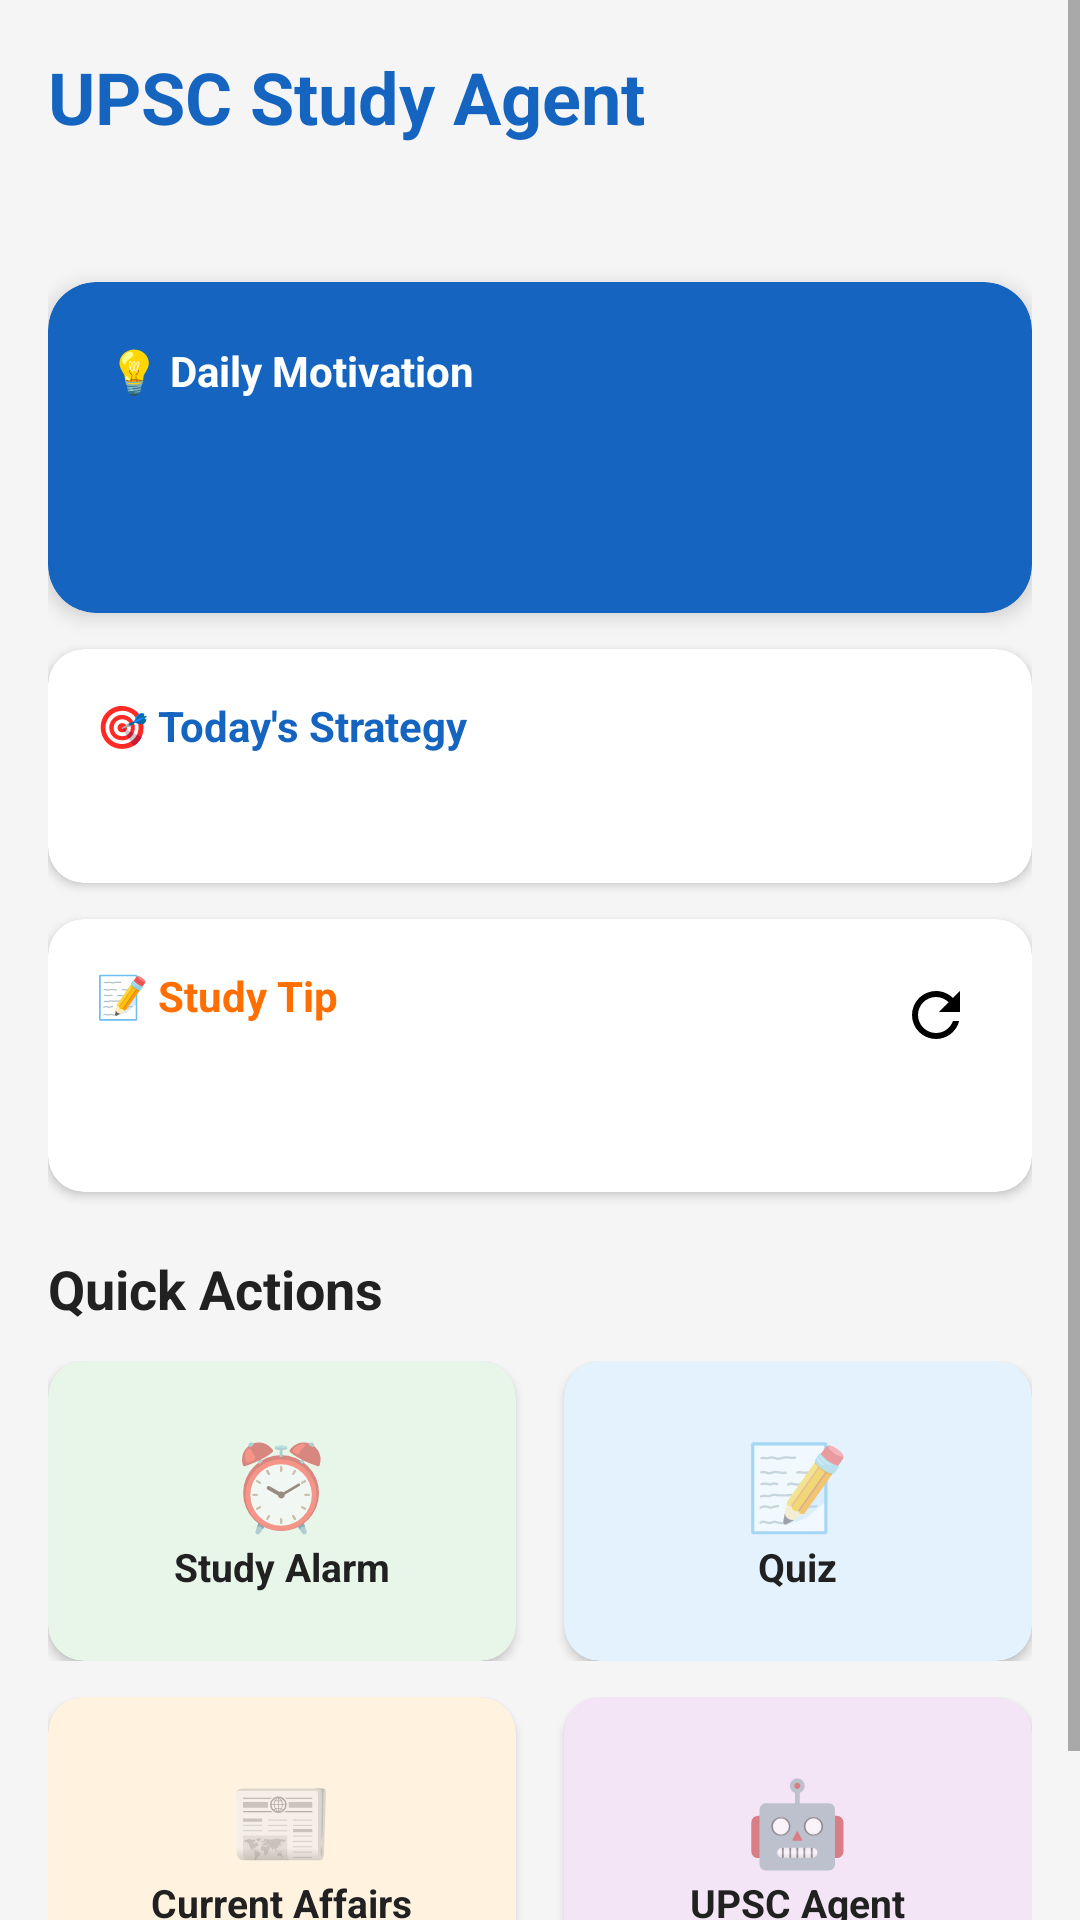

Where to tap for icons on this 1080w x 1920h app screen, as (x,y):
Refresh tip: (936,1015)
